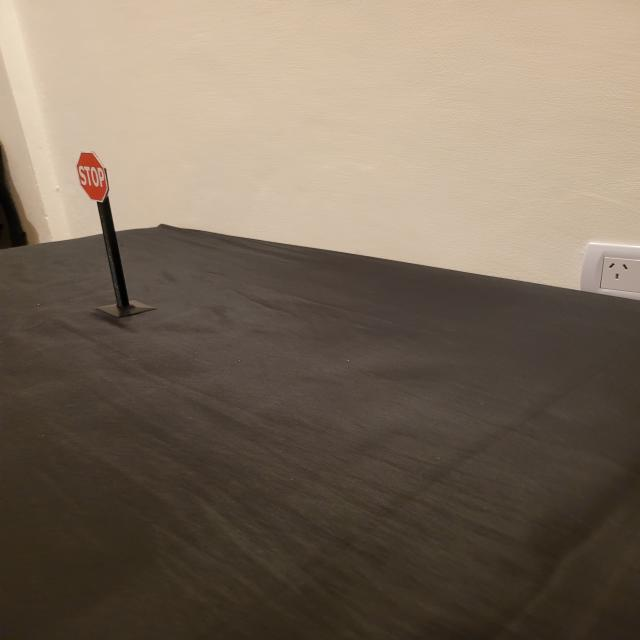stop: (75, 151, 110, 203)
